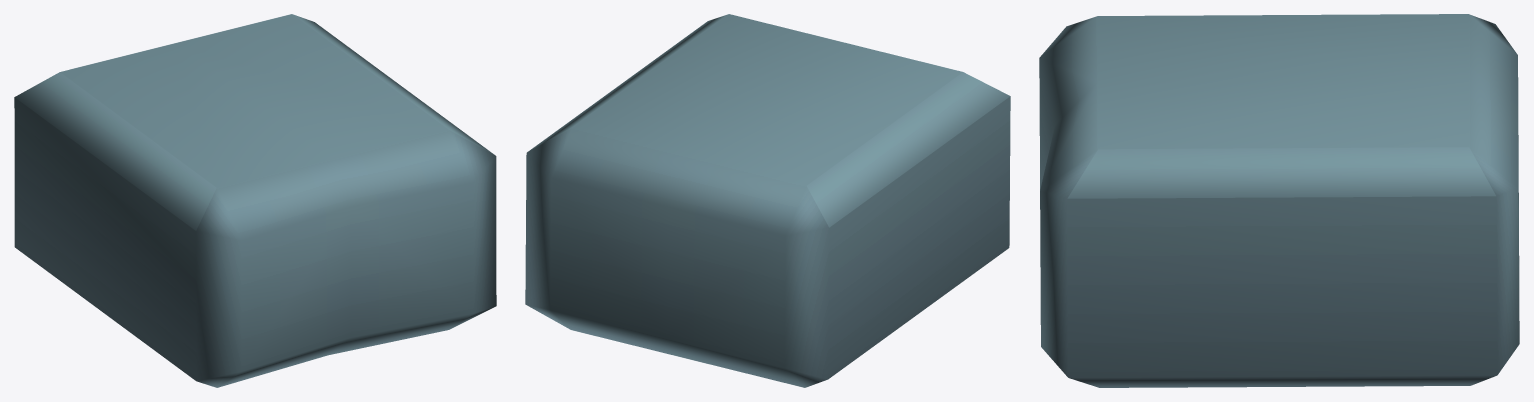
File: Modular_Dungeon_Loose_Brick1.fbx
The picture shows the model from 3 angles, left to right: view 1: azimuth 30°, elevation 25°; view 2: azimuth 150°, elevation 25°; view 3: azimuth 270°, elevation 25°; orthographic projection. The views are drawn at different scales.
Visible parts, largest first — view 1: Loose_Brick1; view 2: Loose_Brick1; view 3: Loose_Brick1.
Boxes of the visible parts, x1,y1,x2,y2 form: Loose_Brick1: (14,14,496,387); Loose_Brick1: (525,14,1010,387); Loose_Brick1: (1039,14,1519,387).
Bounding box in the file's own units: 1.2 × 0.7709 × 1.39.
1 material, 1 textured.
